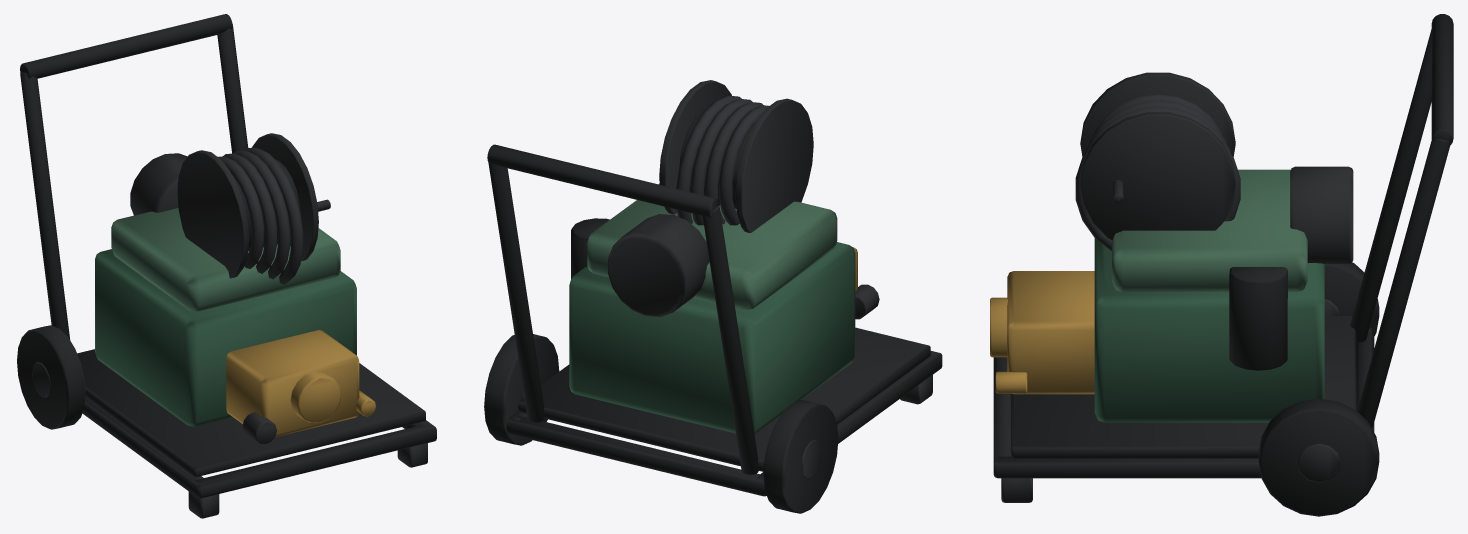
File: asset_078_pressure_washer.glb
The picture shows the model from 3 angles, left to right: view 1: azimuth 30°, elevation 25°; view 2: azimuth 150°, elevation 25°; view 3: azimuth 270°, elevation 25°; orthographic projection. The views are drawn at different scales.
Visible parts, largest first — view 1: MESH_WasherEngineAssembly, MESH_WasherChassis, MESH_WasherHoseReelAssembly, MESH_WasherWheelL, MESH_WasherHubL; view 2: MESH_WasherEngineAssembly, MESH_WasherChassis, MESH_WasherHoseReelAssembly, MESH_WasherWheelL, MESH_WasherWheelR, MESH_WasherHubL; view 3: MESH_WasherEngineAssembly, MESH_WasherChassis, MESH_WasherHoseReelAssembly, MESH_WasherWheelR, MESH_WasherWheelL, MESH_WasherHubR.
Boxes of the visible parts, bbox=[...] form: MESH_WasherEngineAssembly: bbox=[95, 153, 376, 444]; MESH_WasherChassis: bbox=[20, 14, 436, 518]; MESH_WasherHoseReelAssembly: bbox=[177, 133, 330, 284]; MESH_WasherWheelL: bbox=[17, 325, 85, 429]; MESH_WasherHubL: bbox=[32, 362, 50, 397]; MESH_WasherEngineAssembly: bbox=[569, 183, 879, 433]; MESH_WasherChassis: bbox=[487, 144, 942, 496]; MESH_WasherHoseReelAssembly: bbox=[659, 80, 813, 232]; MESH_WasherWheelL: bbox=[763, 400, 838, 513]; MESH_WasherWheelR: bbox=[484, 334, 559, 445]; MESH_WasherHubL: bbox=[801, 439, 821, 478]; MESH_WasherEngineAssembly: bbox=[990, 166, 1353, 422]; MESH_WasherChassis: bbox=[993, 14, 1453, 502]; MESH_WasherHoseReelAssembly: bbox=[1075, 72, 1240, 251]; MESH_WasherWheelR: bbox=[1258, 398, 1379, 516]; MESH_WasherWheelL: bbox=[1324, 262, 1379, 335]; MESH_WasherHubR: bbox=[1297, 443, 1340, 482].
Bounding box in the file's own units: 0.65 × 0.7091 × 0.809.
